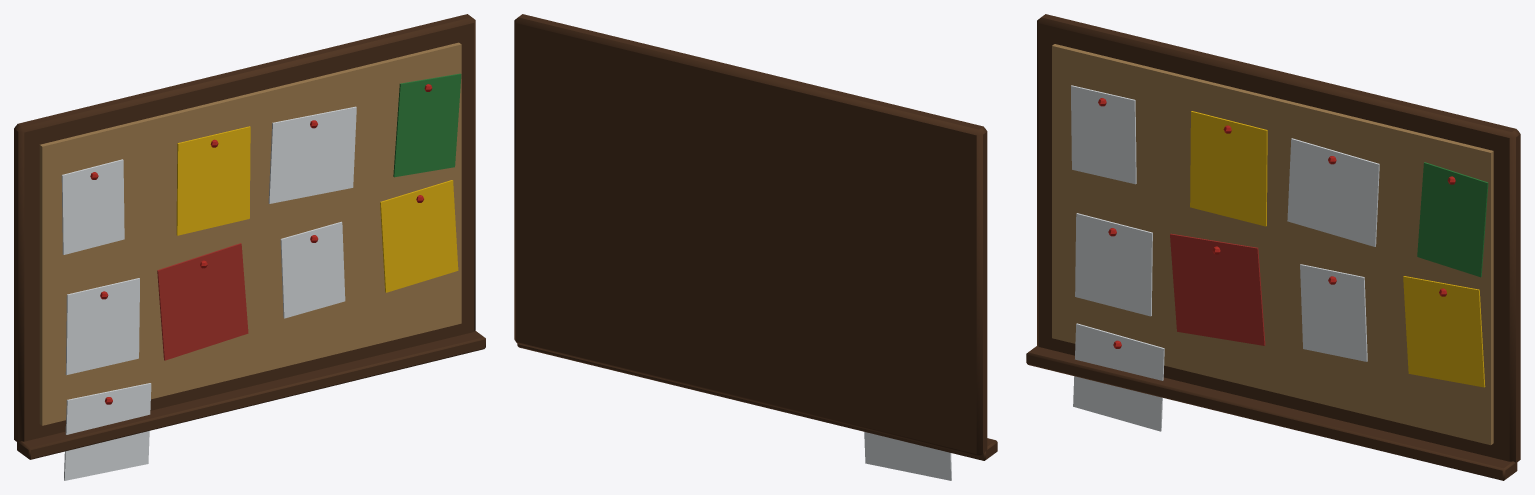
Rendered from noticeboard_cork_bulletin_board.glb.
The picture shows the model from 3 angles, left to right: view 1: azimuth 30°, elevation 25°; view 2: azimuth 150°, elevation 25°; view 3: azimuth 330°, elevation 25°; orthographic projection. The views are drawn at different scales.
Visible parts, largest first — view 1: noticeboard_cork_bulletin_board; view 2: noticeboard_cork_bulletin_board; view 3: noticeboard_cork_bulletin_board.
Part boxes in pixels (x1,y1,x2,y2): noticeboard_cork_bulletin_board: (14, 14, 485, 480); noticeboard_cork_bulletin_board: (514, 14, 997, 480); noticeboard_cork_bulletin_board: (1026, 14, 1520, 480).
Size of the model in its own units: 1.2 by 0.9076 by 0.08.
